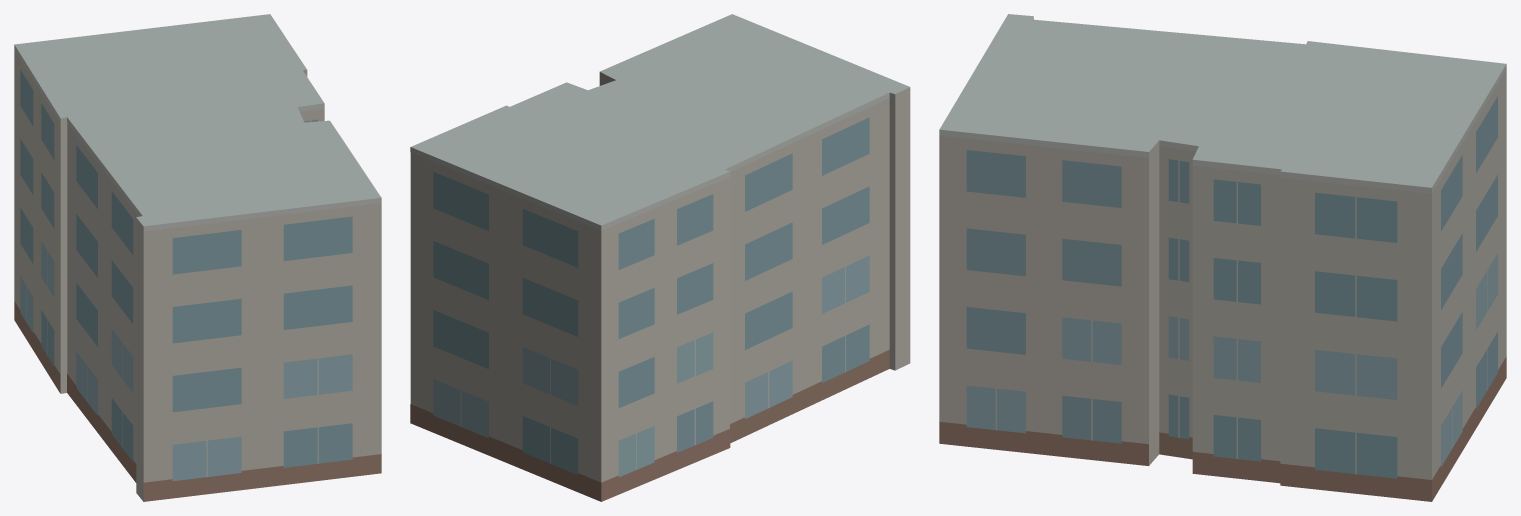
The model's file is survey-upis-32730069.glb.
The picture shows the model from 3 angles, left to right: view 1: azimuth 30°, elevation 25°; view 2: azimuth 150°, elevation 25°; view 3: azimuth 270°, elevation 25°; orthographic projection. The views are drawn at different scales.
Visible parts, largest first — view 1: survey-upis-32730069.tmp; view 2: survey-upis-32730069.tmp; view 3: survey-upis-32730069.tmp.
Boxes of the visible parts, x1,y1,x2,y2 form: survey-upis-32730069.tmp: [14, 14, 381, 501]; survey-upis-32730069.tmp: [410, 14, 910, 501]; survey-upis-32730069.tmp: [939, 14, 1506, 501].
Bounding box in the file's own units: 15.2 × 12.8 × 20.97.
